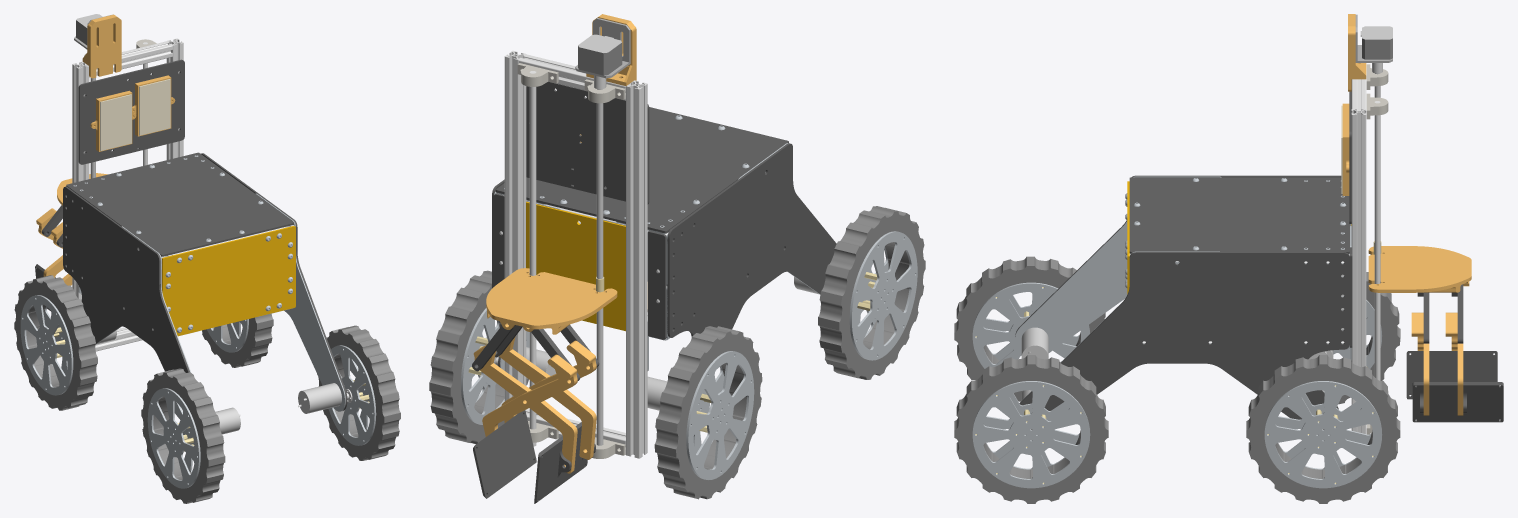
Rendered from rotate rover.fbx.
The picture shows the model from 3 angles, left to right: view 1: azimuth 30°, elevation 25°; view 2: azimuth 150°, elevation 25°; view 3: azimuth 270°, elevation 25°; orthographic projection. The views are drawn at different scales.
Visible parts, largest first — view 1: top plate, acrylic side.001, back plate, tire, tire.001, part holder, tire.003, wheel plate.003, wheel plate, side plate metal.001, wheel plate.007, pcb (+11 smaller); view 2: acrylic side.001, top plate, part holder, tire.001, tire, LONG, front center, tire.002, adapter, LONG.001, wheel plate.003, wheel plate (+18 smaller); view 3: acrylic side, top plate, tire.003, tire.002, wheel plate.006, wheel plate.004, side plate metal, tire.001, adapter, LONG.001, plate, wheel plate.002 (+12 smaller).
Boxes of the visible parts, x1,y1,x2,y2 form: top plate: [66, 152, 294, 256]; acrylic side.001: [63, 186, 189, 372]; back plate: [162, 226, 295, 336]; tire: [14, 275, 97, 410]; tire.001: [141, 368, 225, 503]; part holder: [78, 59, 184, 164]; tire.003: [317, 325, 400, 460]; wheel plate.003: [147, 388, 200, 488]; wheel plate: [20, 295, 73, 395]; side plate metal.001: [255, 193, 345, 411]; wheel plate.007: [328, 345, 376, 445]; pcb: [90, 90, 136, 151]; acrylic side.001: [667, 143, 836, 337]; top plate: [496, 107, 788, 233]; part holder: [526, 81, 649, 204]; tire.001: [818, 206, 925, 379]; tire: [654, 326, 762, 499]; LONG: [626, 80, 647, 458]; front center: [526, 201, 625, 331]; tire.002: [429, 270, 528, 443]; adapter: [486, 268, 617, 334]; LONG.001: [504, 50, 526, 401]; wheel plate.003: [849, 231, 917, 360]; wheel plate: [686, 351, 754, 479]; acrylic side: [1019, 252, 1349, 429]; top plate: [1129, 177, 1349, 253]; tire.003: [954, 355, 1108, 503]; tire.002: [1246, 355, 1400, 503]; wheel plate.006: [972, 381, 1090, 488]; wheel plate.004: [1264, 381, 1382, 488]; side plate metal: [1015, 176, 1335, 352]; tire.001: [954, 256, 1105, 401]; adapter: [1368, 246, 1471, 292]; LONG.001: [1351, 108, 1366, 433]; plate: [1412, 382, 1503, 422]; wheel plate.002: [972, 282, 1089, 368].
Size of the model in its own units: 70.46 by 125 by 149.
